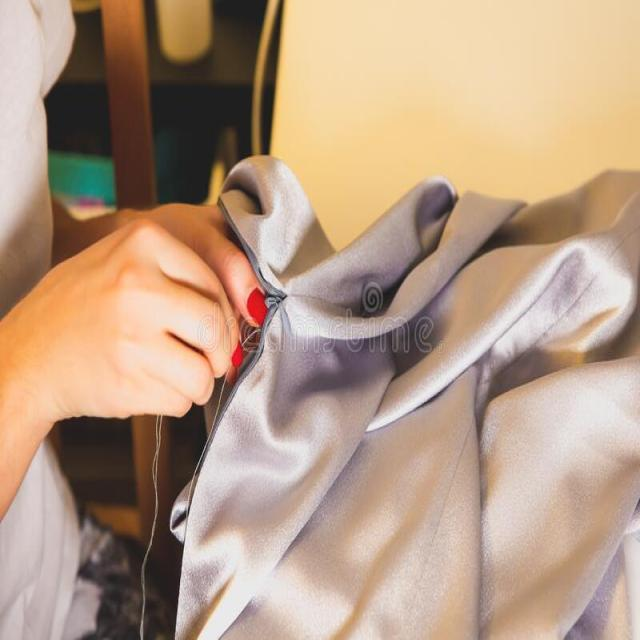clothes: (265, 188, 640, 640)
